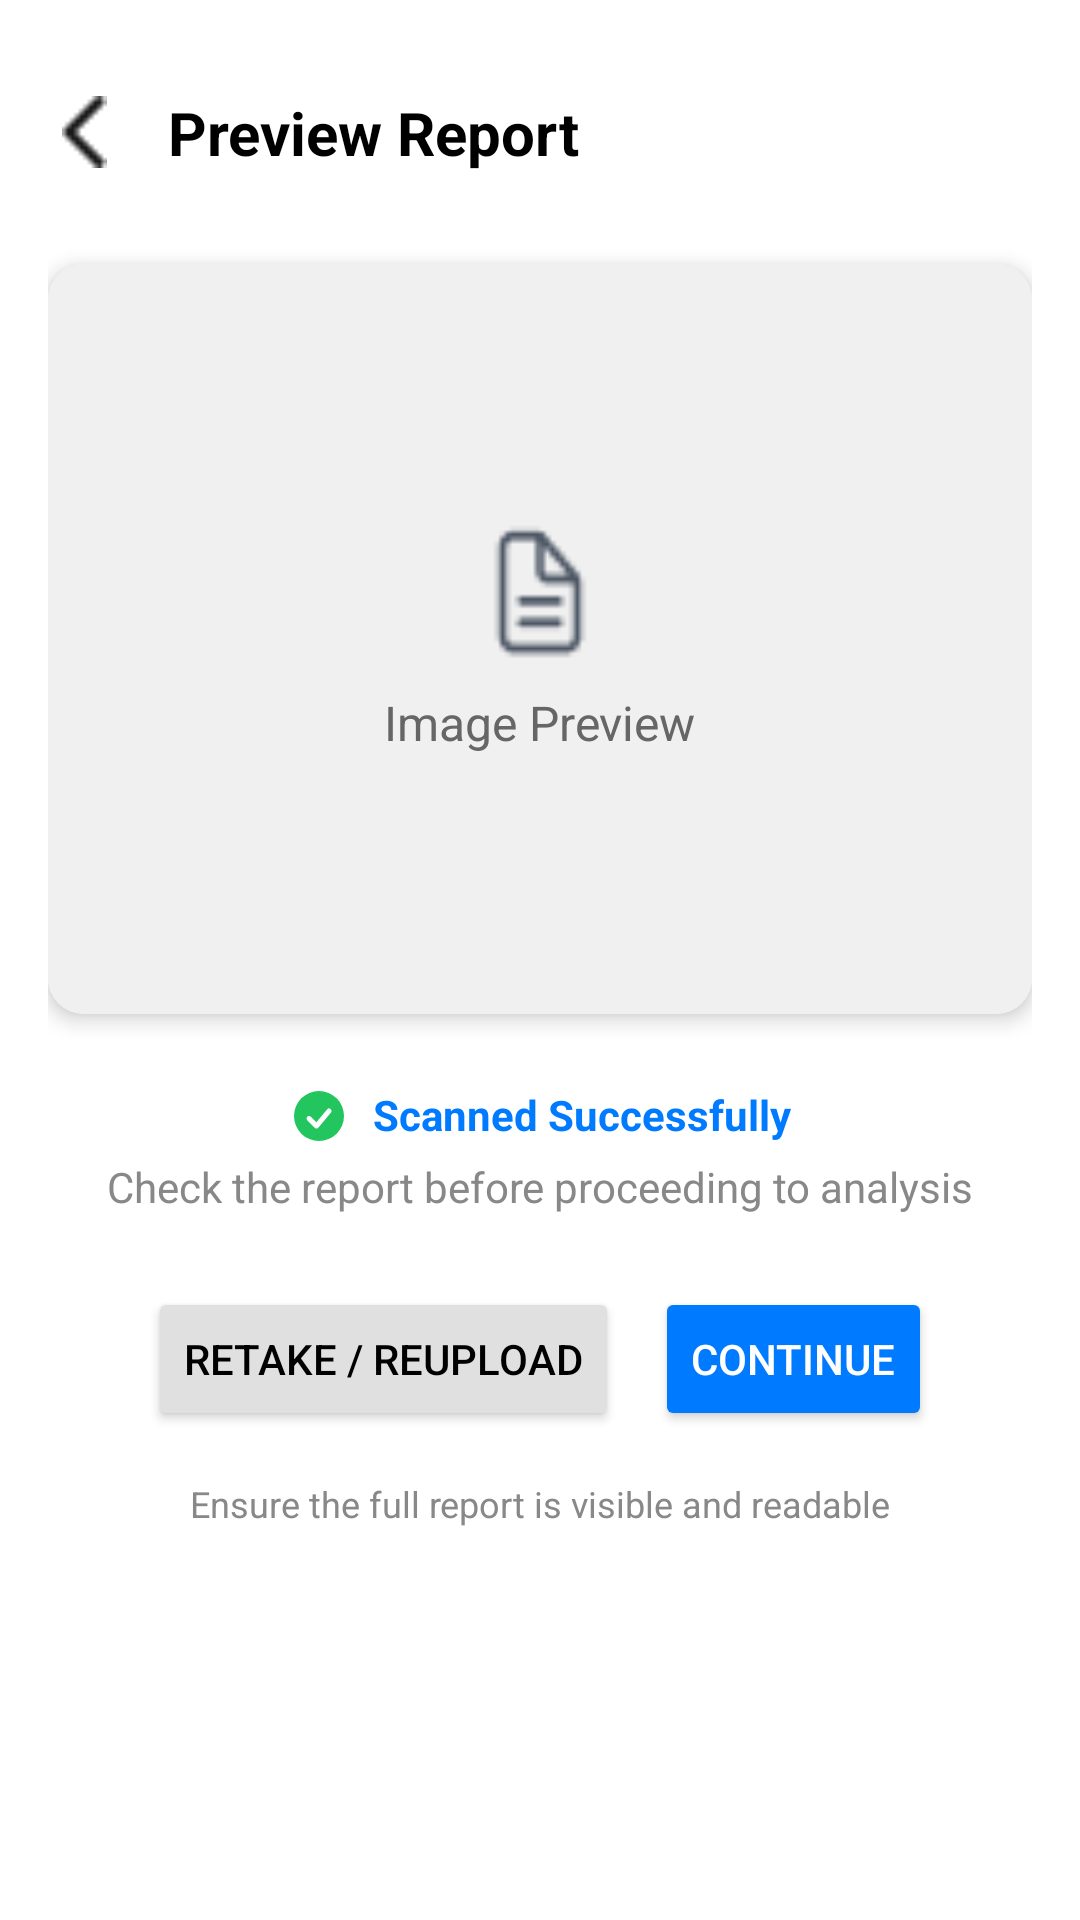

Where icons sit on this 1080*1920 app screen, as (x1, y1, x2, y2):
Back: (62, 96, 107, 168)
Document Icon: (496, 530, 584, 657)
success check: (294, 1091, 344, 1141)
